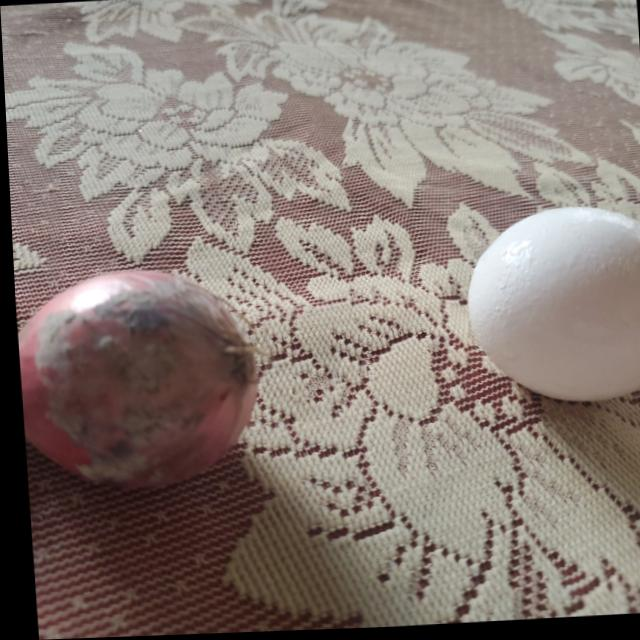egg: (457, 208, 640, 408)
onion: (14, 264, 256, 493)
